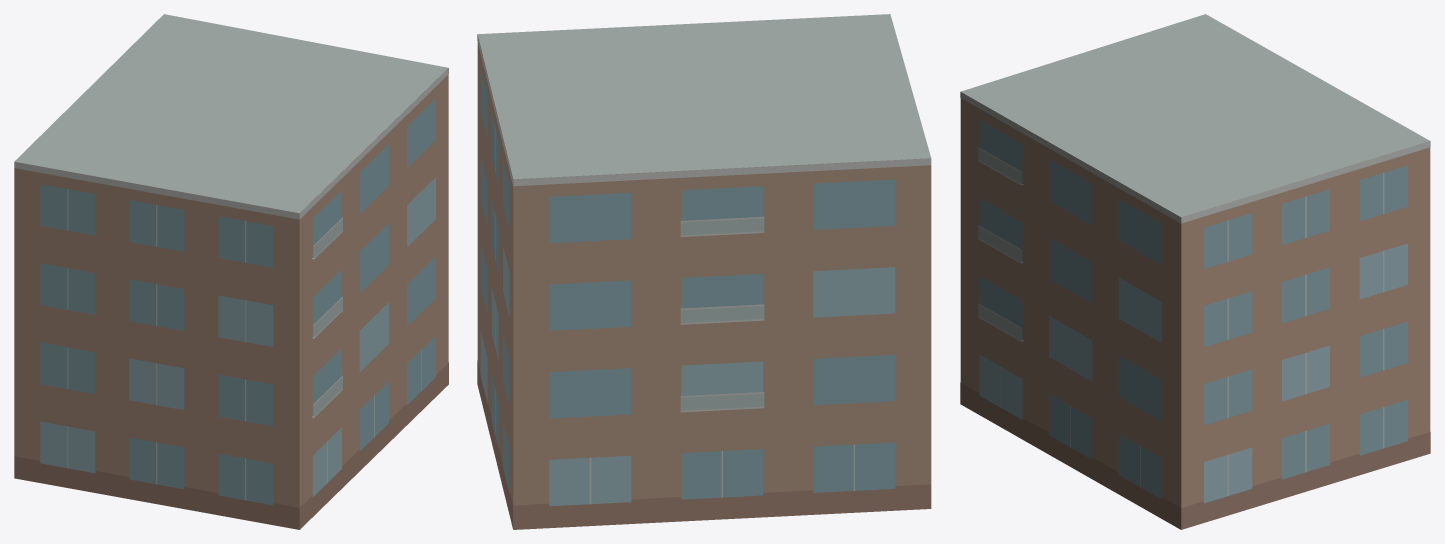
File: survey-upis-32913332.glb
3 views of the same model, side by side, from view 1: azimuth 30°, elevation 25°; view 2: azimuth 150°, elevation 25°; view 3: azimuth 270°, elevation 25° (orthographic). The views are drawn at different scales.
Parts seen in each view (by area): view 1: survey-upis-32913332.tmp; view 2: survey-upis-32913332.tmp; view 3: survey-upis-32913332.tmp.
Boxes of the visible parts, x1,y1,x2,y2 form: survey-upis-32913332.tmp: (14,14,448,529); survey-upis-32913332.tmp: (477,14,931,529); survey-upis-32913332.tmp: (960,14,1430,529).
Bounding box in the file's own units: 17.03 × 12.2 × 16.64.
